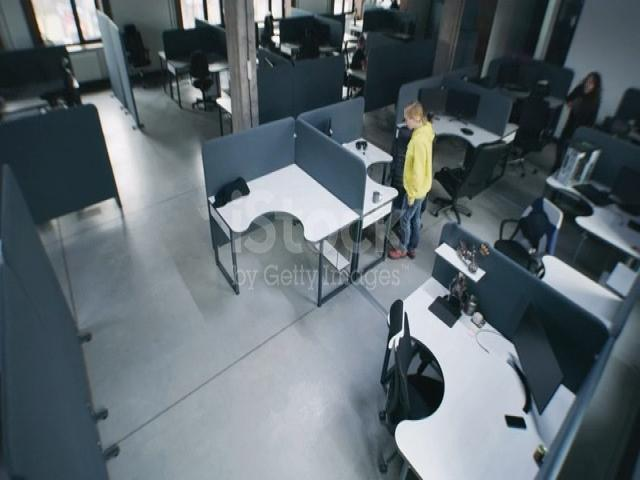empty chair: (372, 261, 440, 454), (496, 179, 600, 265), (450, 124, 513, 208), (49, 38, 89, 134), (521, 60, 558, 160), (112, 16, 161, 77), (378, 135, 430, 189), (185, 50, 223, 114), (604, 110, 640, 142)
occupiedchair: (343, 17, 380, 92)
